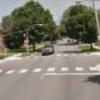crosswalks: (0, 65, 96, 74), (31, 55, 50, 58), (64, 54, 84, 56), (49, 55, 66, 56)
